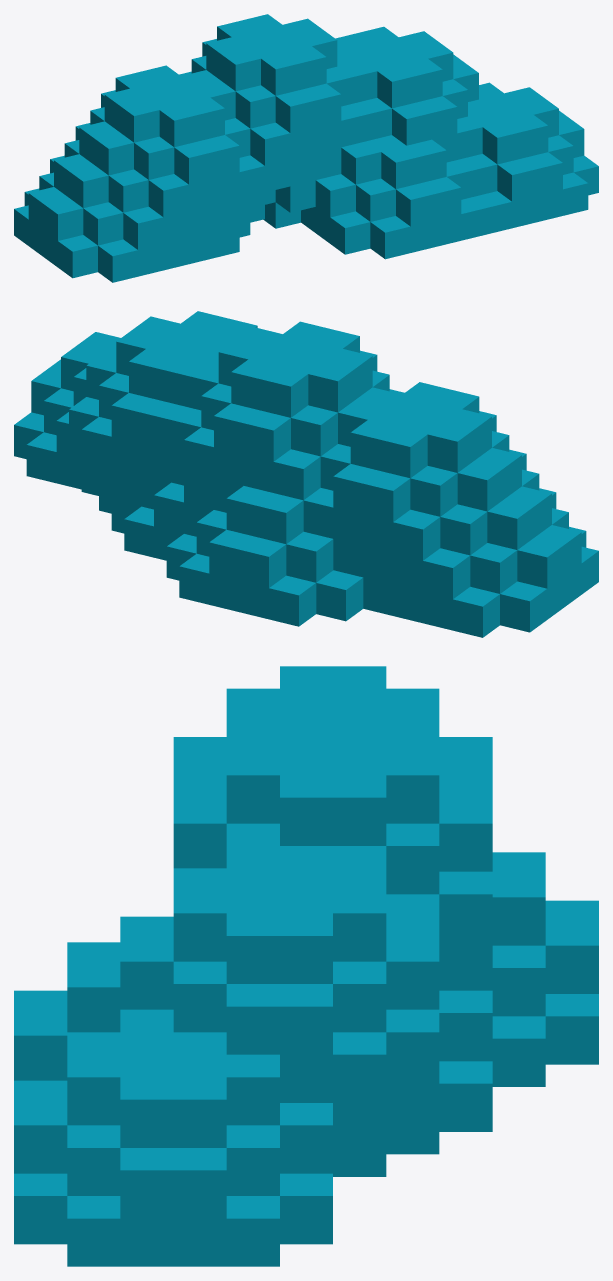
Rendered from IceBerries-3.obj.
The picture shows the model from 3 angles, top to bottom: view 1: azimuth 30°, elevation 25°; view 2: azimuth 150°, elevation 25°; view 3: azimuth 270°, elevation 25°; orthographic projection. The views are drawn at different scales.
Size of the model in its own units: 1.9 by 0.6 by 1.1.
1 material, 1 textured.
